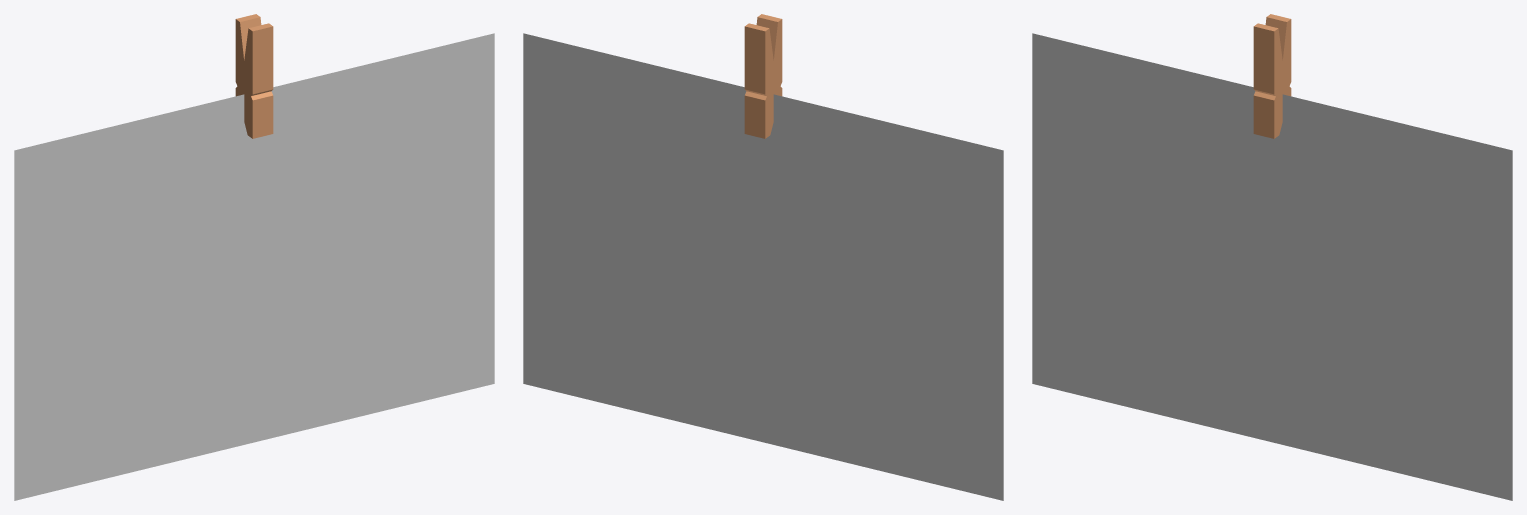
Rendered from clipped-picture.glb.
The picture shows the model from 3 angles, left to right: view 1: azimuth 30°, elevation 25°; view 2: azimuth 150°, elevation 25°; view 3: azimuth 330°, elevation 25°; orthographic projection.
Visible parts, largest first — view 1: __X_PICTURE__Plane, Clip; view 2: __X_PICTURE__Plane, Clip; view 3: __X_PICTURE__Plane, Clip.
Boxes of the visible parts, left/top/right/bottom form: __X_PICTURE__Plane: left=14, top=33, right=494, bottom=500; Clip: left=235, top=14, right=273, bottom=138; __X_PICTURE__Plane: left=523, top=33, right=1003, bottom=500; Clip: left=744, top=14, right=782, bottom=138; __X_PICTURE__Plane: left=1032, top=33, right=1512, bottom=500; Clip: left=1253, top=14, right=1291, bottom=138.
Size of the model in its own units: 0.1635 by 0.1366 by 0.01.
